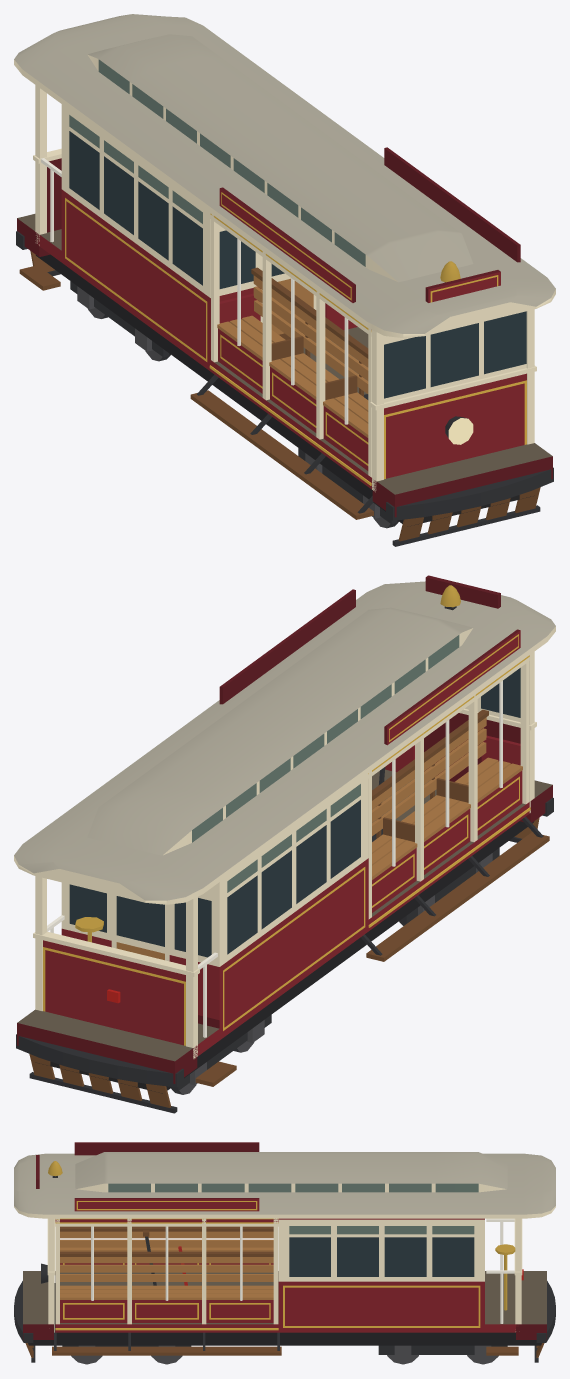
Rendered from sf_cable_car.glb.
The picture shows the model from 3 angles, top to bottom: view 1: azimuth 30°, elevation 25°; view 2: azimuth 150°, elevation 25°; view 3: azimuth 270°, elevation 25°; orthographic projection. The views are drawn at different scales.
Parts seen in each view (by area): view 1: sf_cable_car; view 2: sf_cable_car; view 3: sf_cable_car.
Boxes of the visible parts, box(x1,y1,x2,y2) form: sf_cable_car: box(14, 14, 555, 546); sf_cable_car: box(14, 575, 555, 1113); sf_cable_car: box(14, 1142, 555, 1364).
Size of the model in its own units: 2.4 by 3.2 by 8.4.
Materials: 1 (1 with a texture image).
